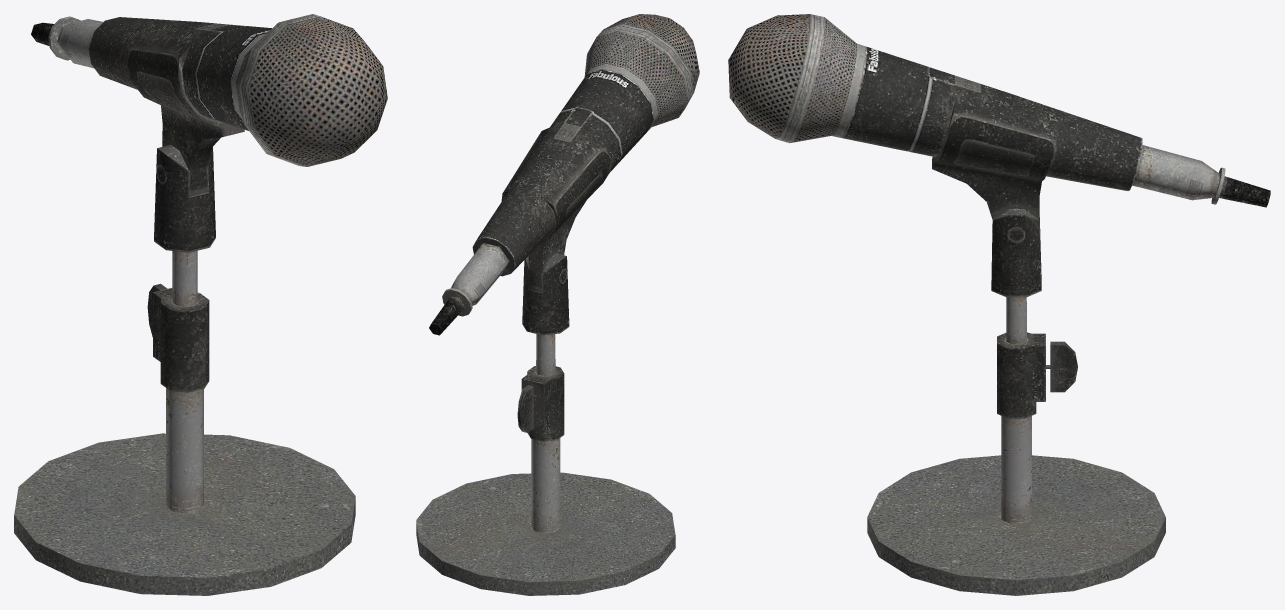
The model's file is 008_microphonestand01.fbx.
3 views of the same model, side by side, from view 1: azimuth 30°, elevation 25°; view 2: azimuth 150°, elevation 25°; view 3: azimuth 270°, elevation 25° (orthographic). The views are drawn at different scales.
Visible parts, largest first — view 1: LOD_1_Group_0_Sub_1__sm31_008_MicrophoneStand01A_A_Mat; view 2: LOD_1_Group_0_Sub_1__sm31_008_MicrophoneStand01A_A_Mat; view 3: LOD_1_Group_0_Sub_1__sm31_008_MicrophoneStand01A_A_Mat.
Boxes of the visible parts, left/top/right/bottom form: LOD_1_Group_0_Sub_1__sm31_008_MicrophoneStand01A_A_Mat: left=14, top=14, right=387, bottom=595; LOD_1_Group_0_Sub_1__sm31_008_MicrophoneStand01A_A_Mat: left=416, top=14, right=699, bottom=595; LOD_1_Group_0_Sub_1__sm31_008_MicrophoneStand01A_A_Mat: left=728, top=14, right=1270, bottom=595.
Bounding box in the file's own units: 0.1026 × 0.1939 × 0.1862.
